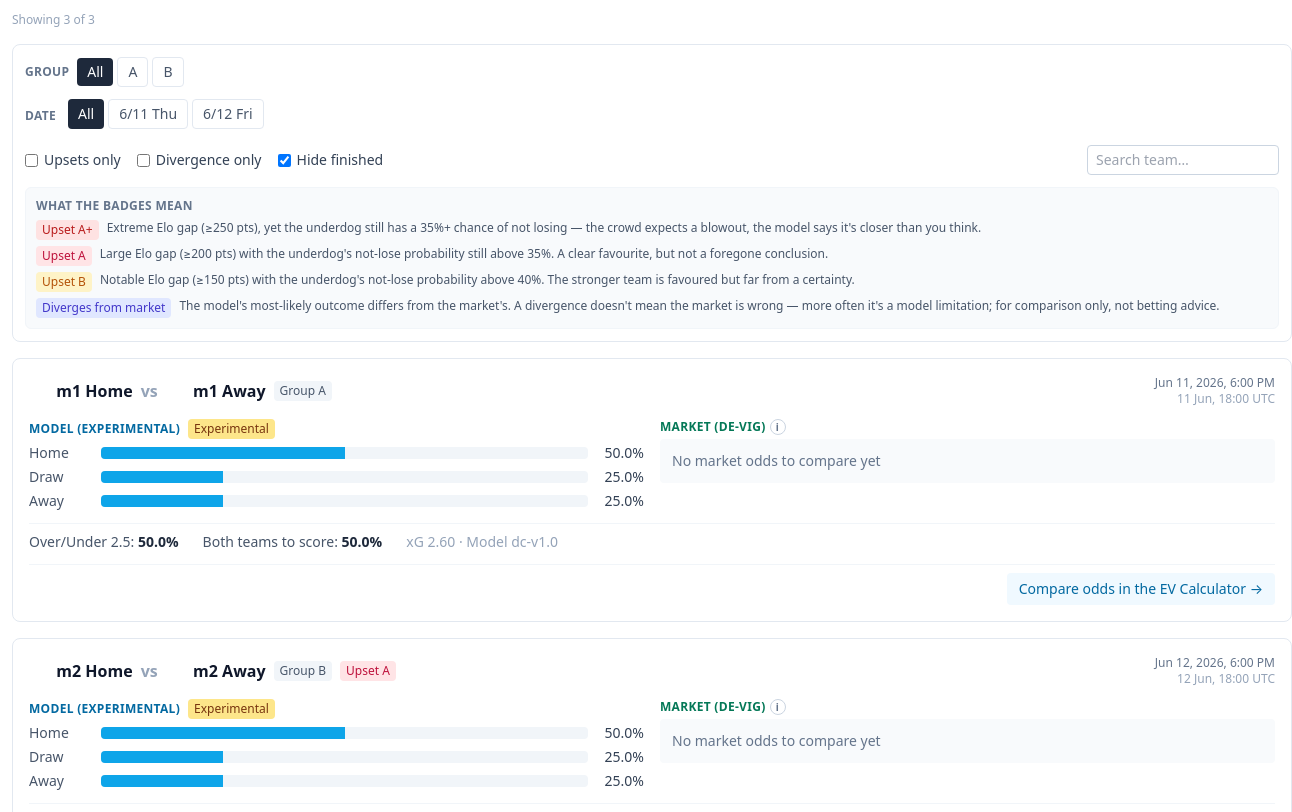
Test: MatchFilters (client-side filter, Issue 7) › filters by exact date via the date strip
Click the button "6/12 Fri" at (228, 114), box [192,99,264,129]
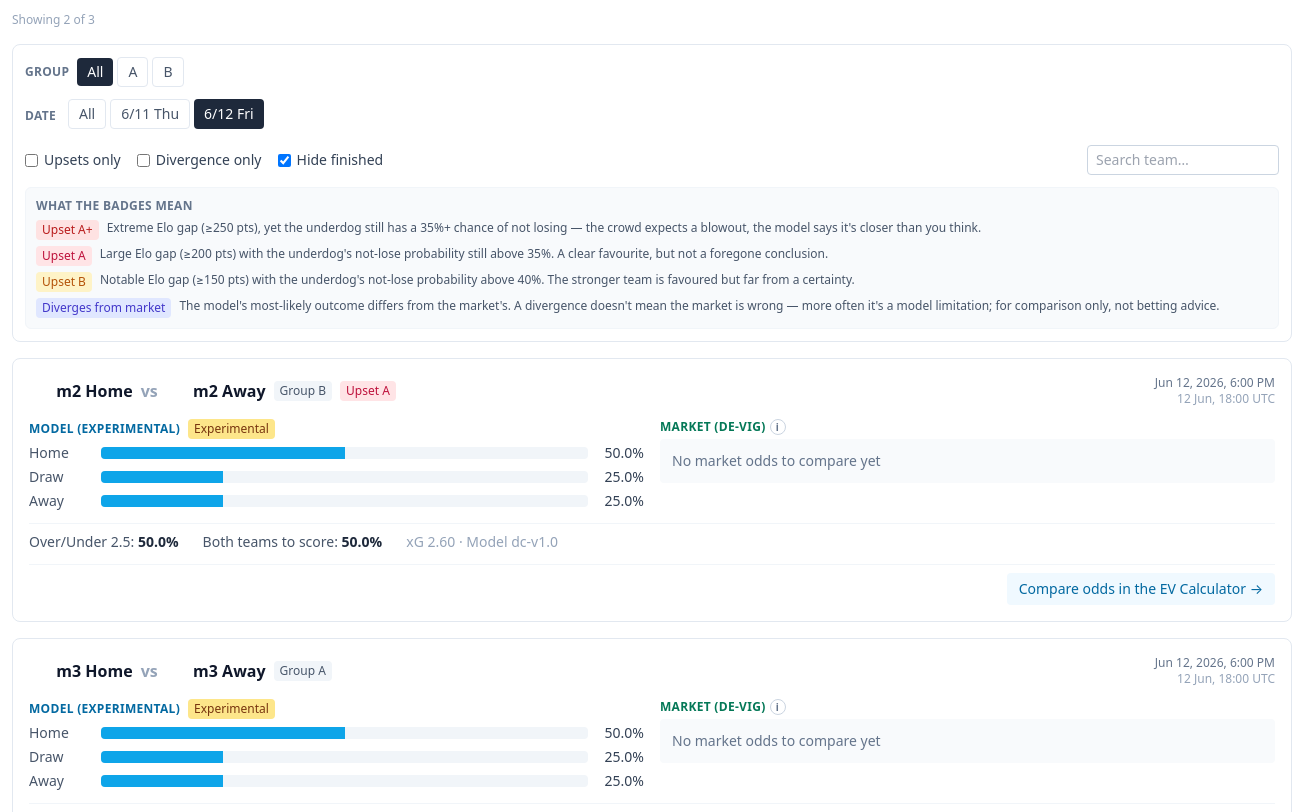
Check: the text "Showing 2 of 3" is shown, box [12,12,95,28]
